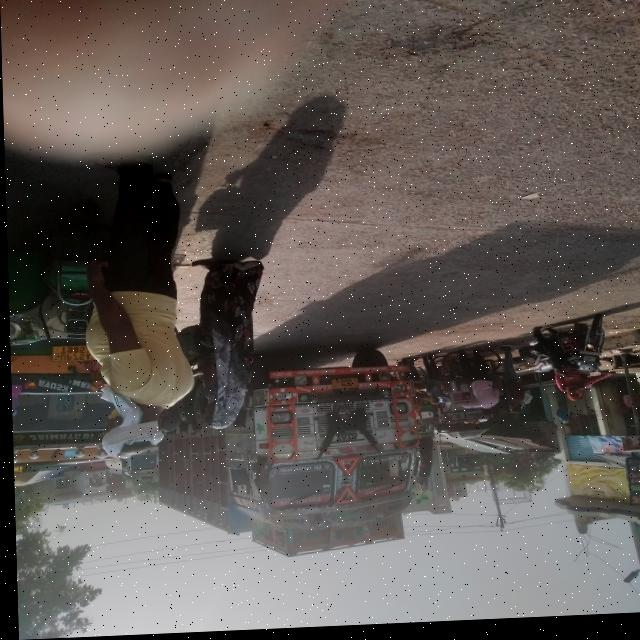plate: (326, 374, 362, 396)
